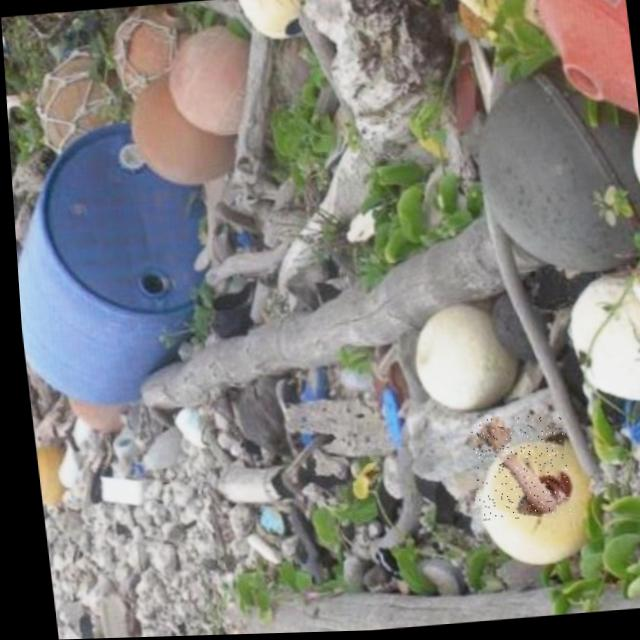Person in Rubble: (462, 415, 565, 524)
